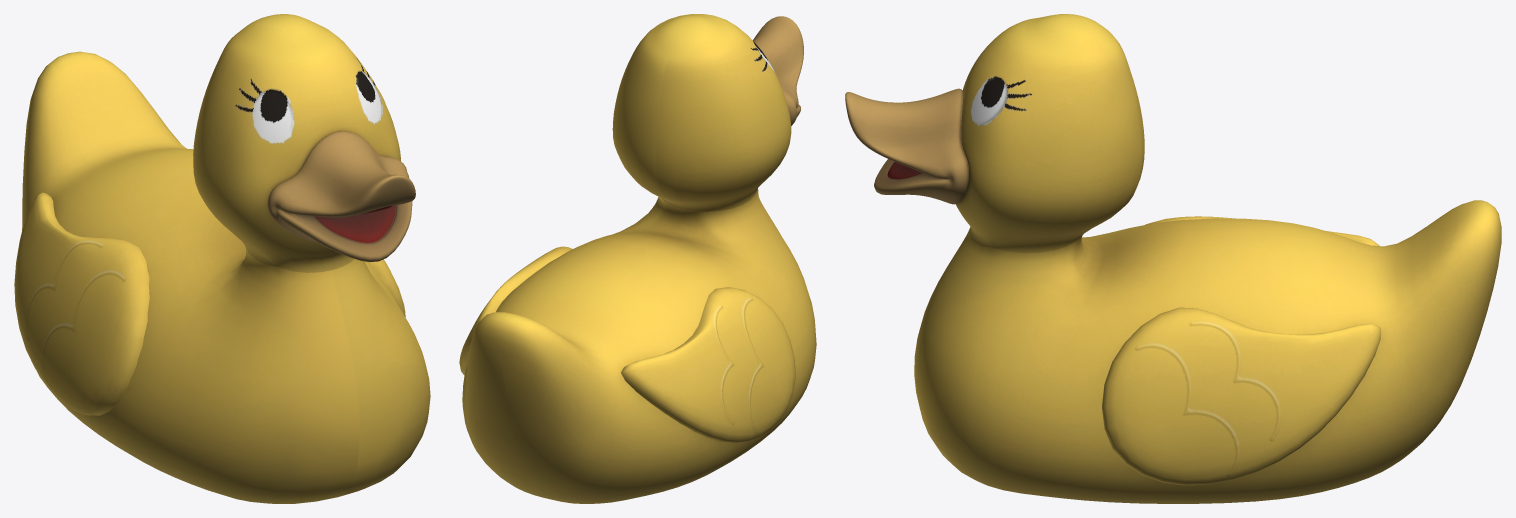
The model's file is rubberducklow.fbx.
3 renders of one model, left to right at view 1: azimuth 30°, elevation 25°; view 2: azimuth 150°, elevation 25°; view 3: azimuth 270°, elevation 25°, orthographic. The views are drawn at different scales.
Parts seen in each view (by area): view 1: _Rubber_Duck_v1_L3:_Rubber_Duck_v1; view 2: _Rubber_Duck_v1_L3:_Rubber_Duck_v1; view 3: _Rubber_Duck_v1_L3:_Rubber_Duck_v1.
Boxes of the visible parts, x1,y1,x2,y2 form: _Rubber_Duck_v1_L3:_Rubber_Duck_v1: (14,14,430,503); _Rubber_Duck_v1_L3:_Rubber_Duck_v1: (459,14,816,503); _Rubber_Duck_v1_L3:_Rubber_Duck_v1: (845,14,1501,503).
Bounding box in the file's own units: 105 × 142 × 192.
